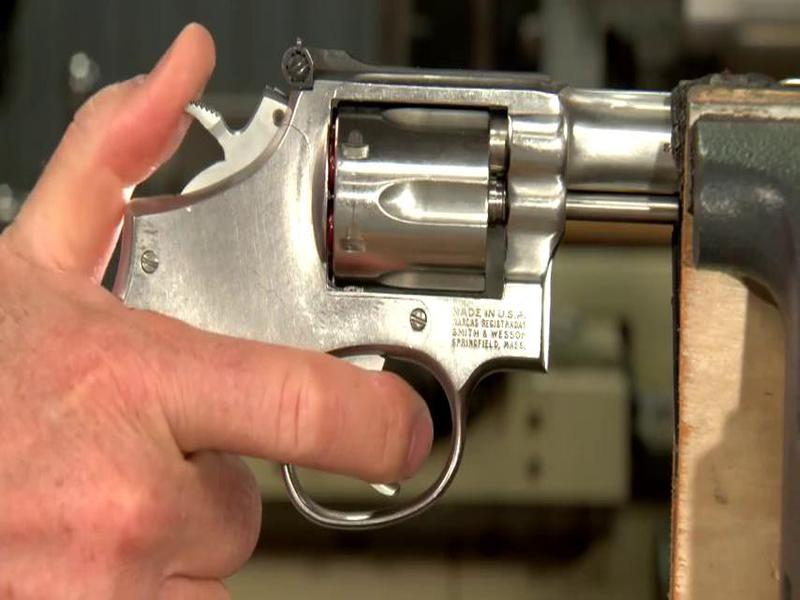Revolver: (66, 26, 800, 518)
